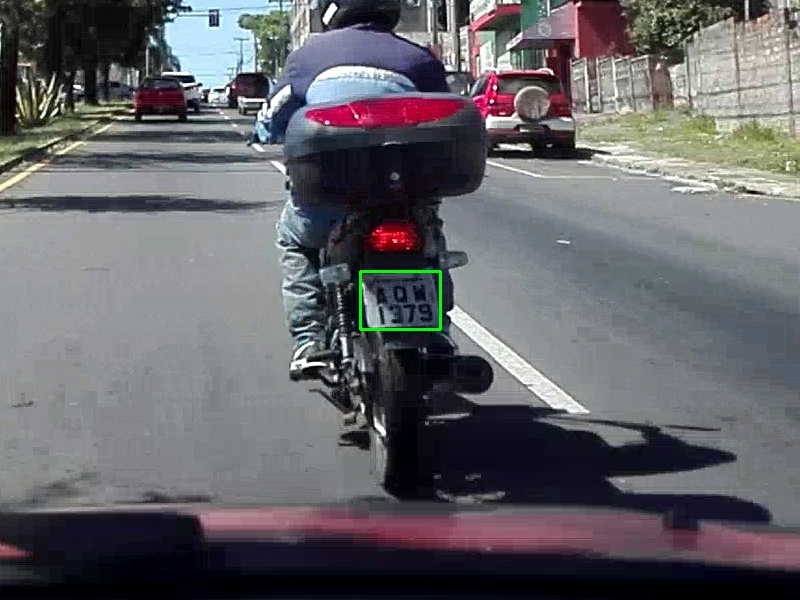placa: (360, 271, 440, 329)
